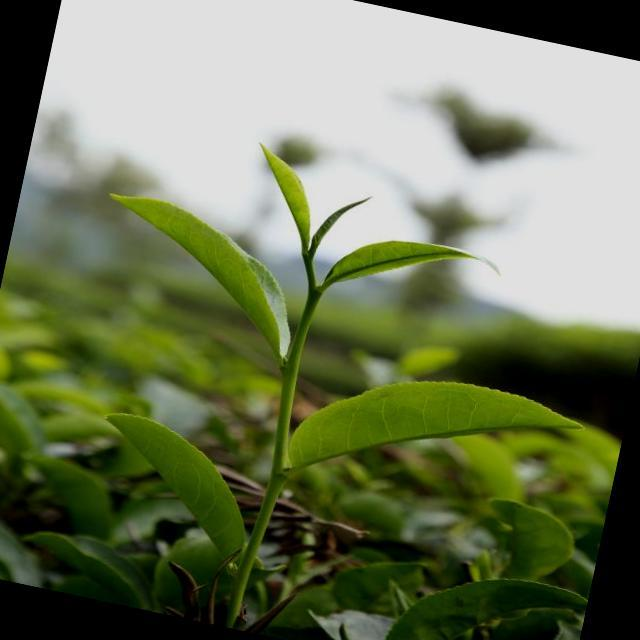Stem: (309, 288, 321, 298)
